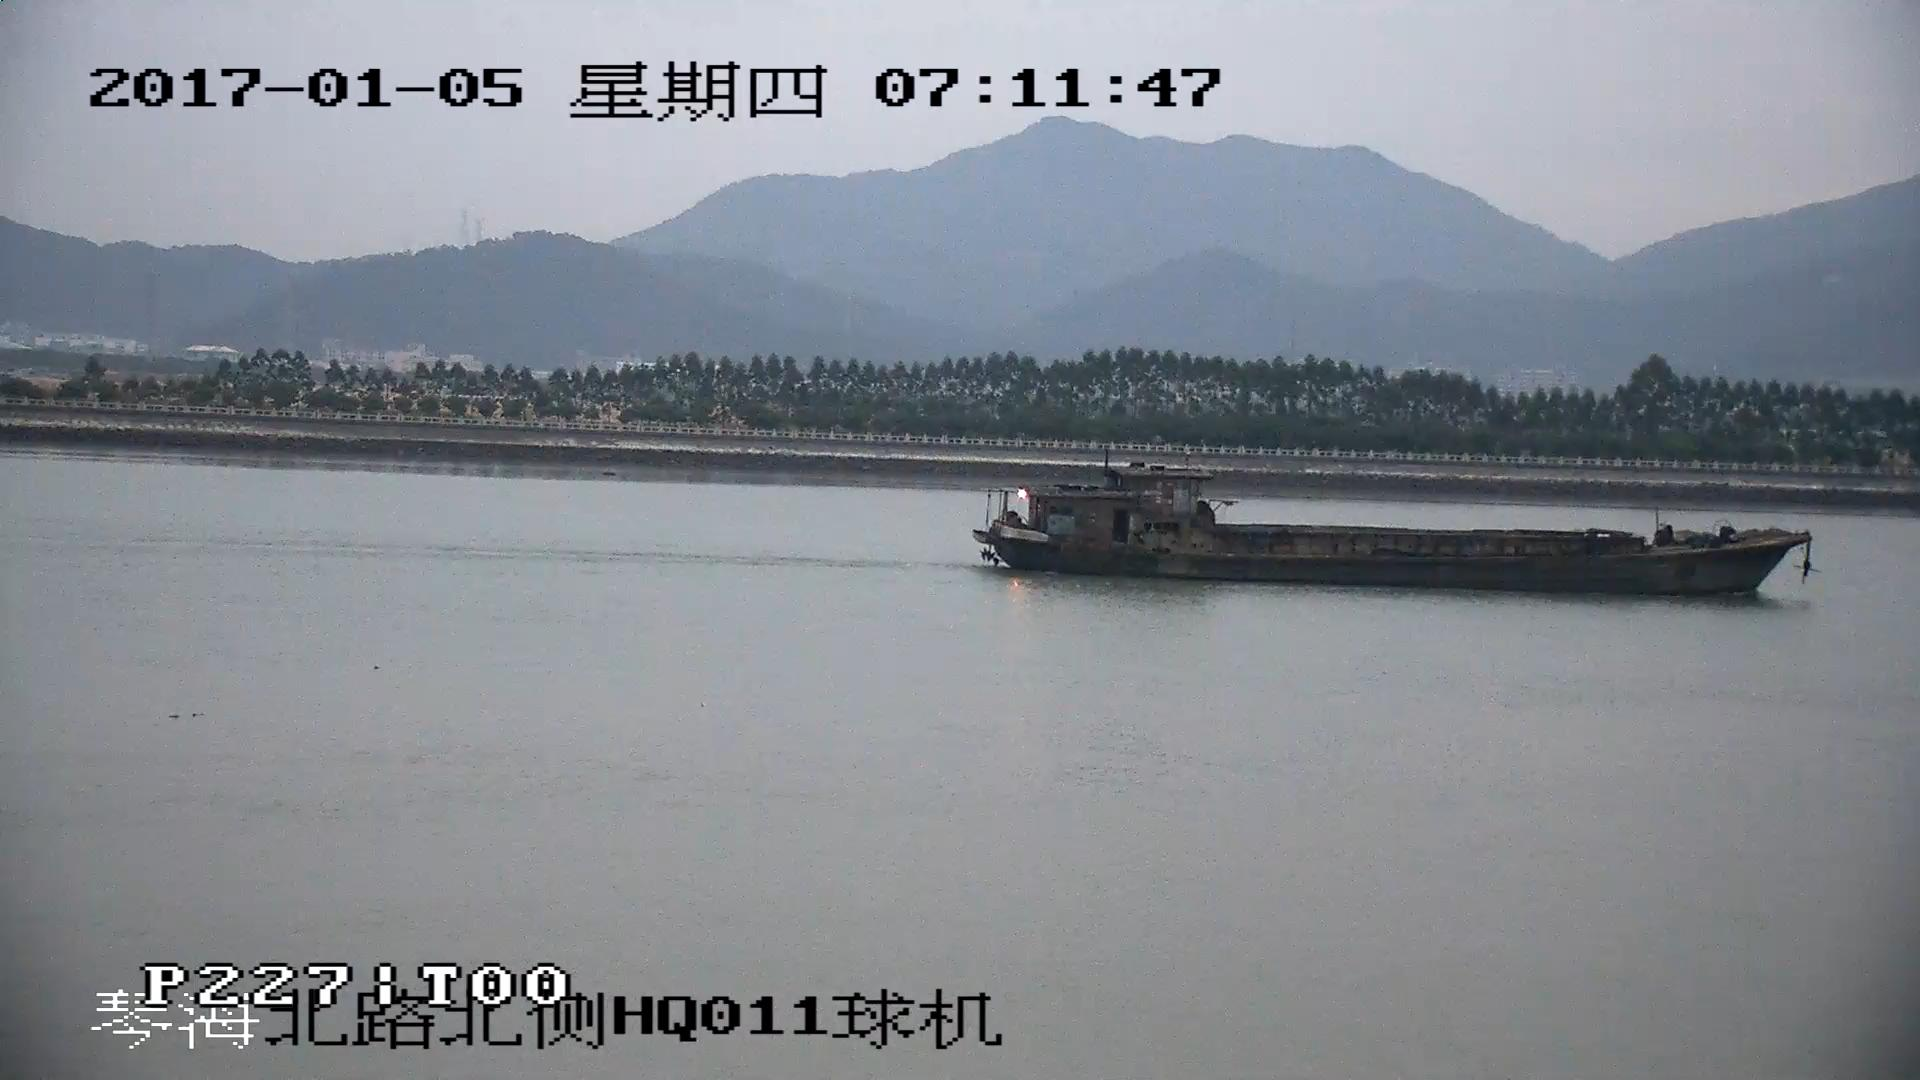bulk cargo carrier: (975, 461, 1811, 593)
